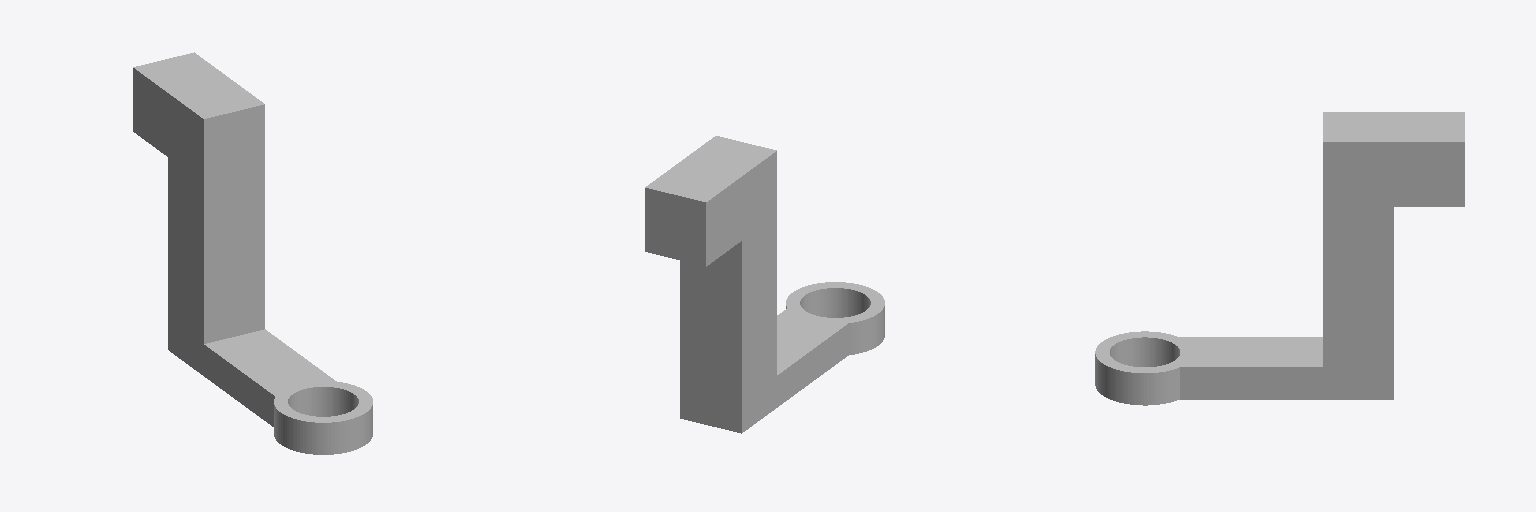
The model's file is inchworm_leg.obj.
3 views of the same model, side by side, from view 1: azimuth 30°, elevation 25°; view 2: azimuth 150°, elevation 25°; view 3: azimuth 270°, elevation 25° (orthographic).
Visible parts, largest first — view 1: Inchworm_Leg_Inchworm_Leg.002; view 2: Inchworm_Leg_Inchworm_Leg.002; view 3: Inchworm_Leg_Inchworm_Leg.002.
Part boxes in pixels (x1,y1,x2,y2): Inchworm_Leg_Inchworm_Leg.002: (133, 52, 372, 454); Inchworm_Leg_Inchworm_Leg.002: (645, 136, 884, 433); Inchworm_Leg_Inchworm_Leg.002: (1095, 112, 1464, 405).
Size of the model in its own units: 0.0178 by 0.0508 by 0.0661.